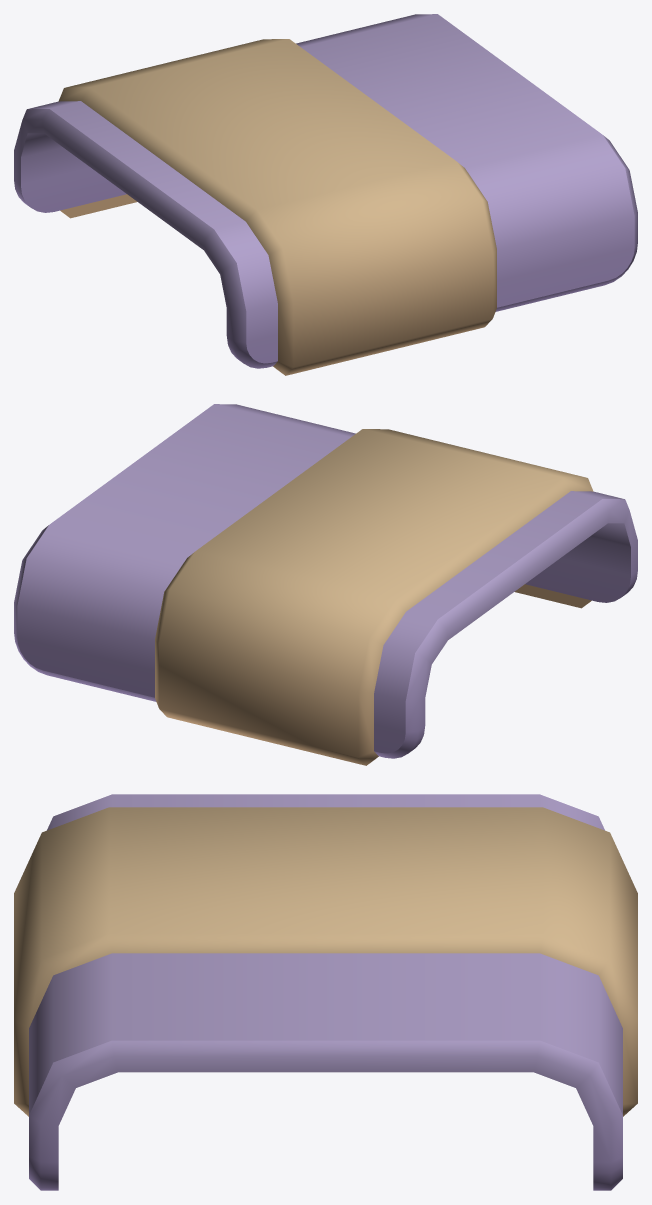
The model's file is cover-duvet-single.glb.
3 views of the same model, one above another, from view 1: azimuth 30°, elevation 25°; view 2: azimuth 150°, elevation 25°; view 3: azimuth 270°, elevation 25° (orthographic). The views are drawn at different scales.
Parts seen in each view (by area): view 1: cover-duvet-single; view 2: cover-duvet-single; view 3: cover-duvet-single.
Part boxes in pixels (x1,y1,x2,y2): cover-duvet-single: [14, 14, 637, 375]; cover-duvet-single: [14, 404, 637, 765]; cover-duvet-single: [14, 794, 637, 1190].
Size of the model in its own units: 1.02 by 0.35 by 1.05.
